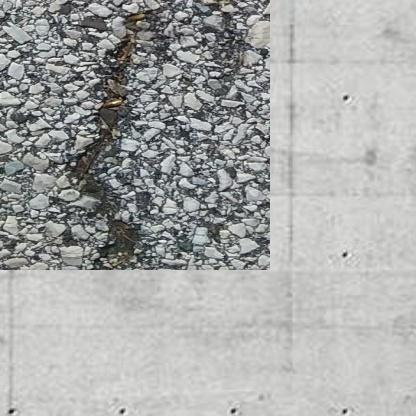Cracks: (63, 9, 153, 249), (162, 0, 231, 95), (141, 0, 155, 7)
